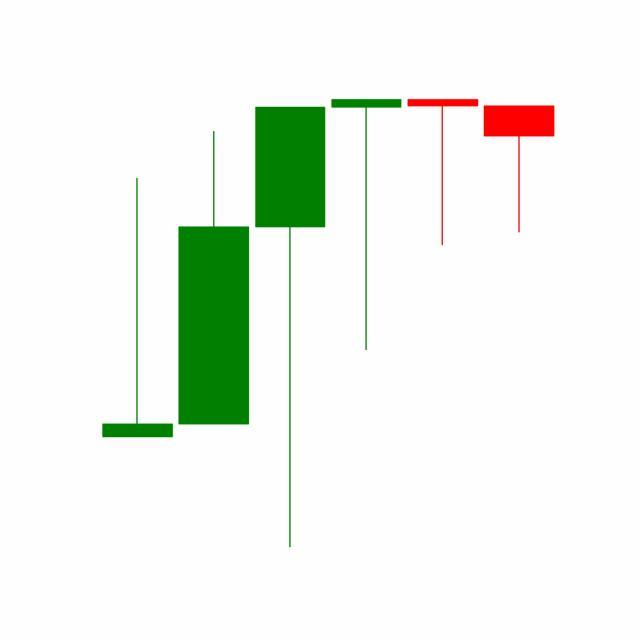Hanging Man: (404, 98, 482, 248)
